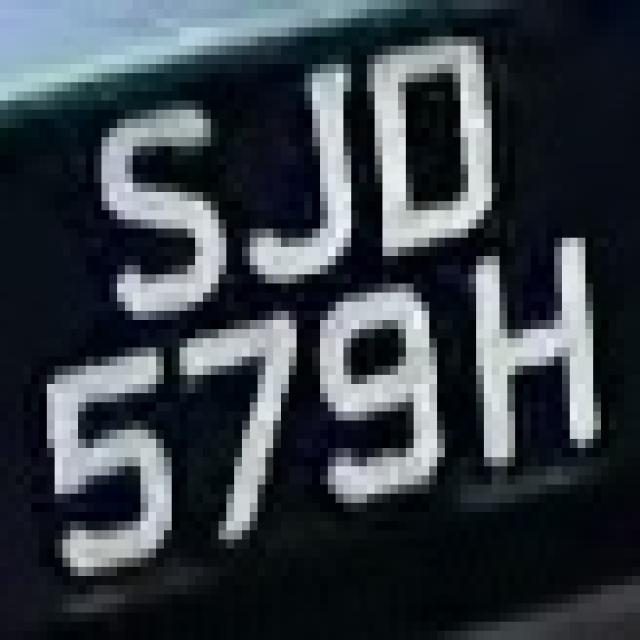5: (16, 320, 187, 603)
7: (156, 292, 312, 558)
9: (296, 256, 445, 512)
D: (351, 28, 500, 265)
H: (445, 219, 609, 494)
J: (195, 37, 367, 274)
S: (70, 91, 226, 356)
